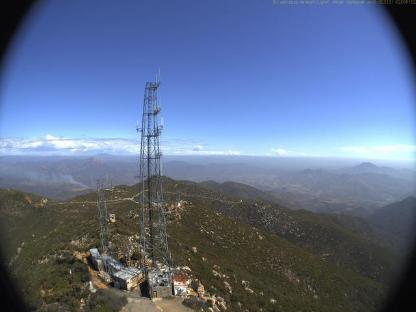smoke: (16, 168, 92, 188)
